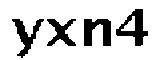4: (112, 5, 153, 52)
n: (81, 14, 112, 50)
x: (44, 13, 78, 51)
y: (7, 15, 45, 60)
